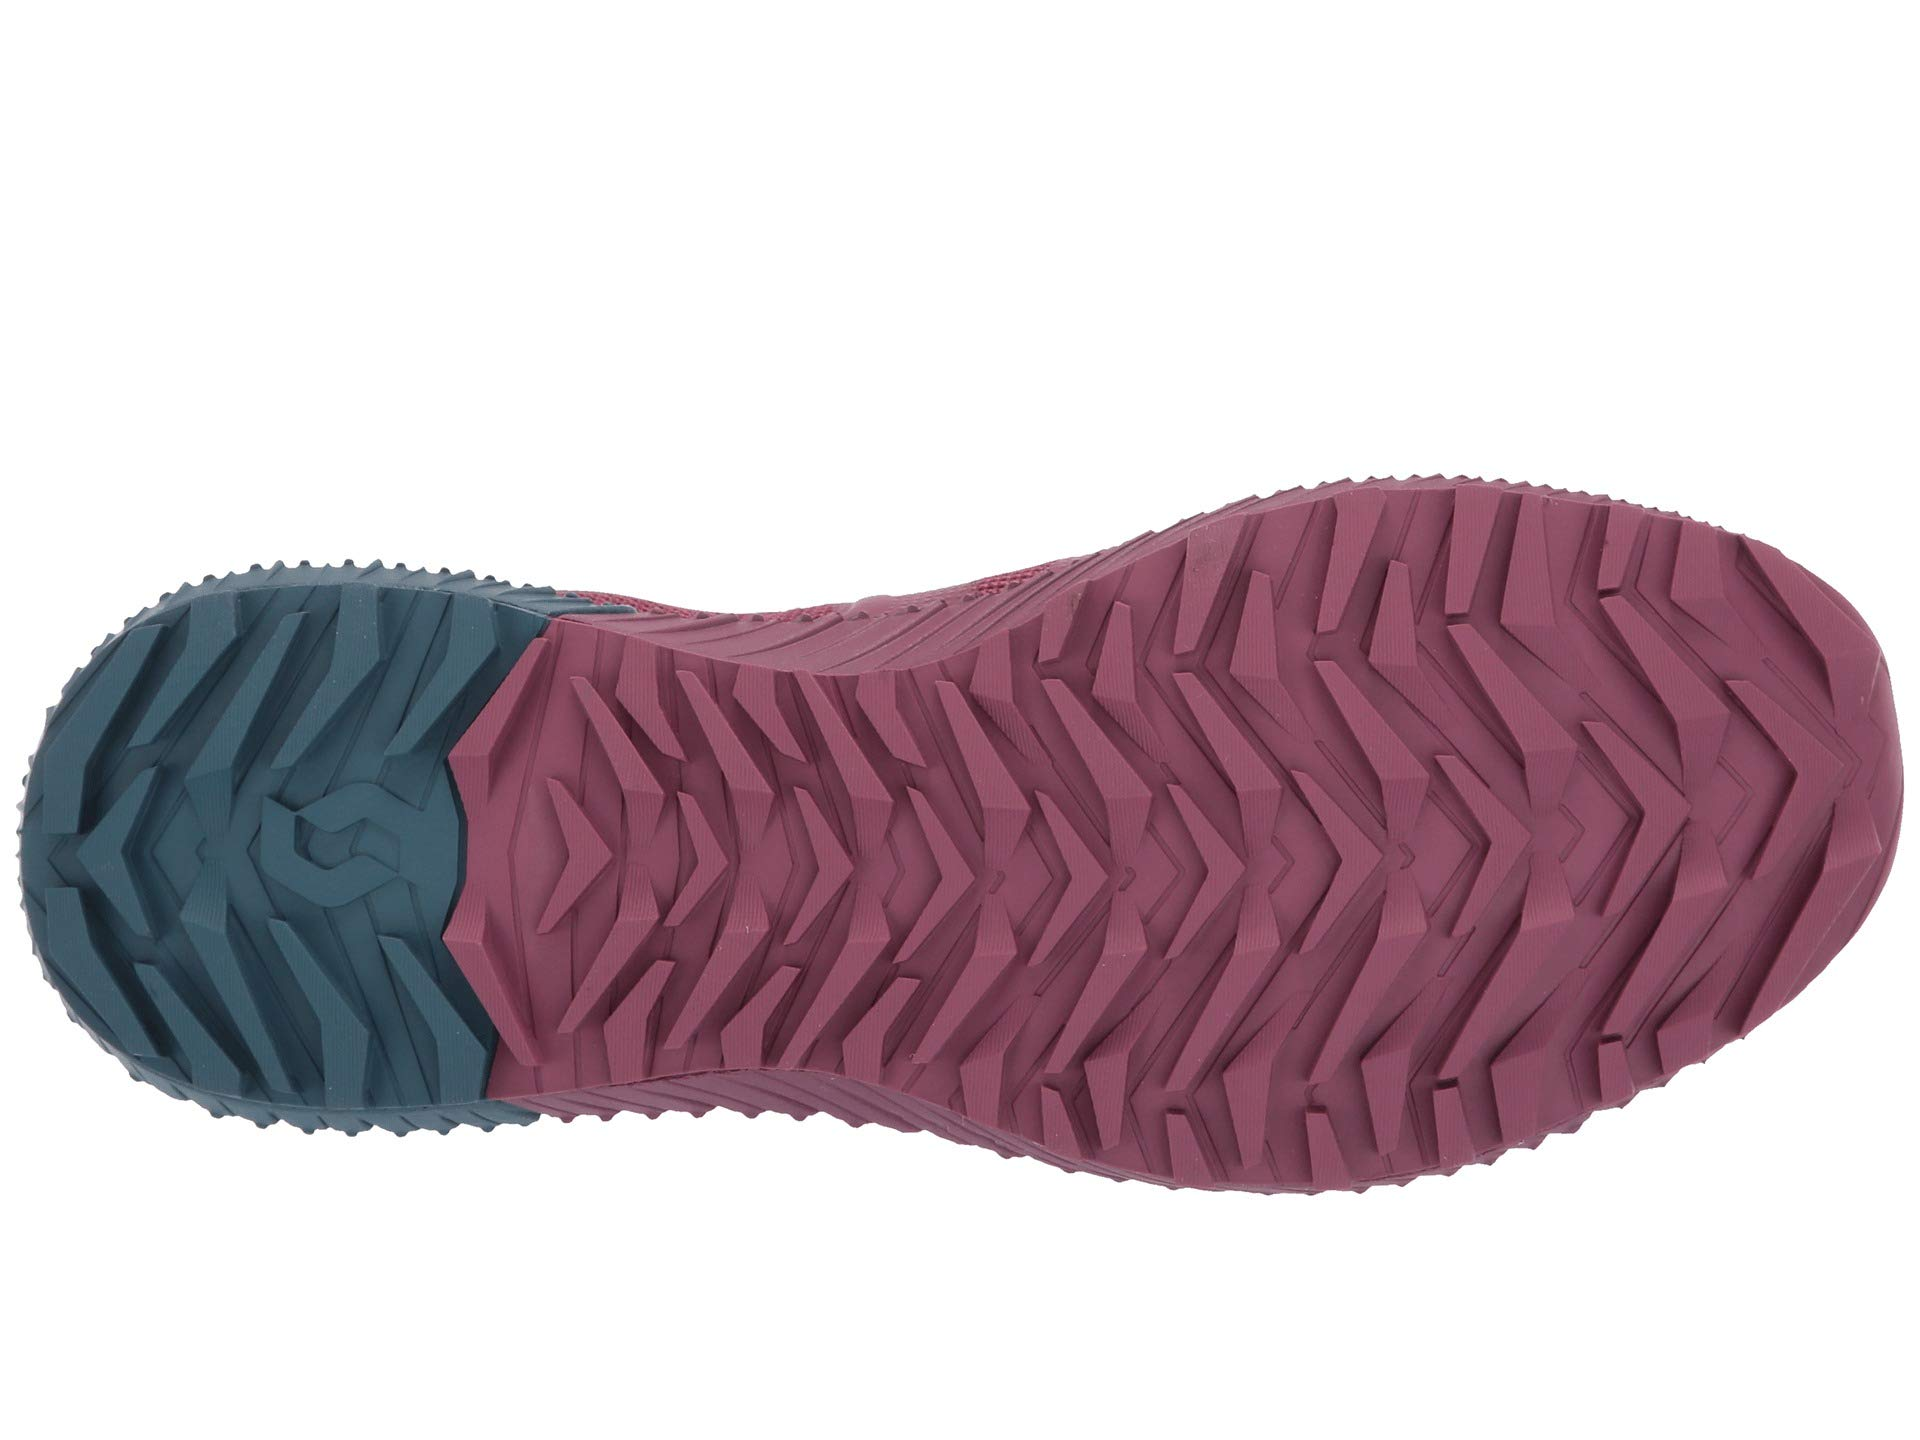chevron: (1169, 532, 1524, 898), (1559, 525, 1869, 859), (685, 861, 977, 1086), (110, 632, 351, 877)
